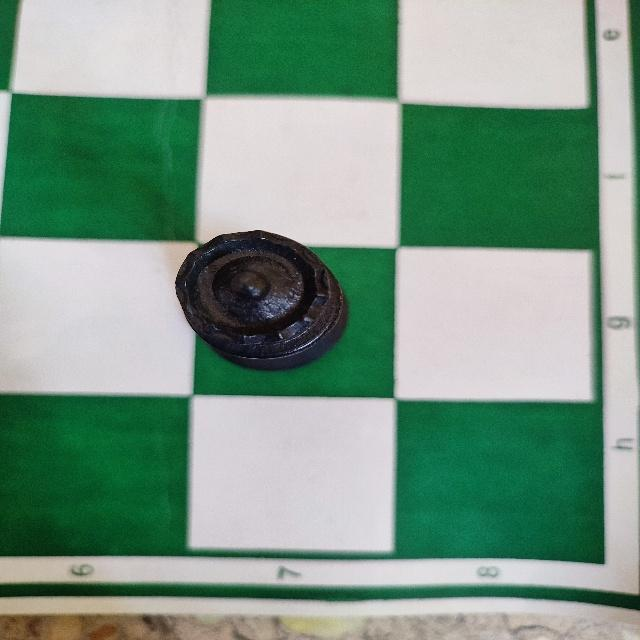Queen: (172, 226, 352, 373)
